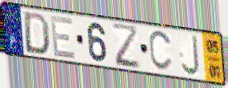6: (86, 20, 109, 64)
C: (148, 30, 174, 73)
D: (23, 10, 51, 57)
E: (49, 14, 77, 61)
J: (180, 34, 201, 78)
Z: (110, 22, 143, 71)
